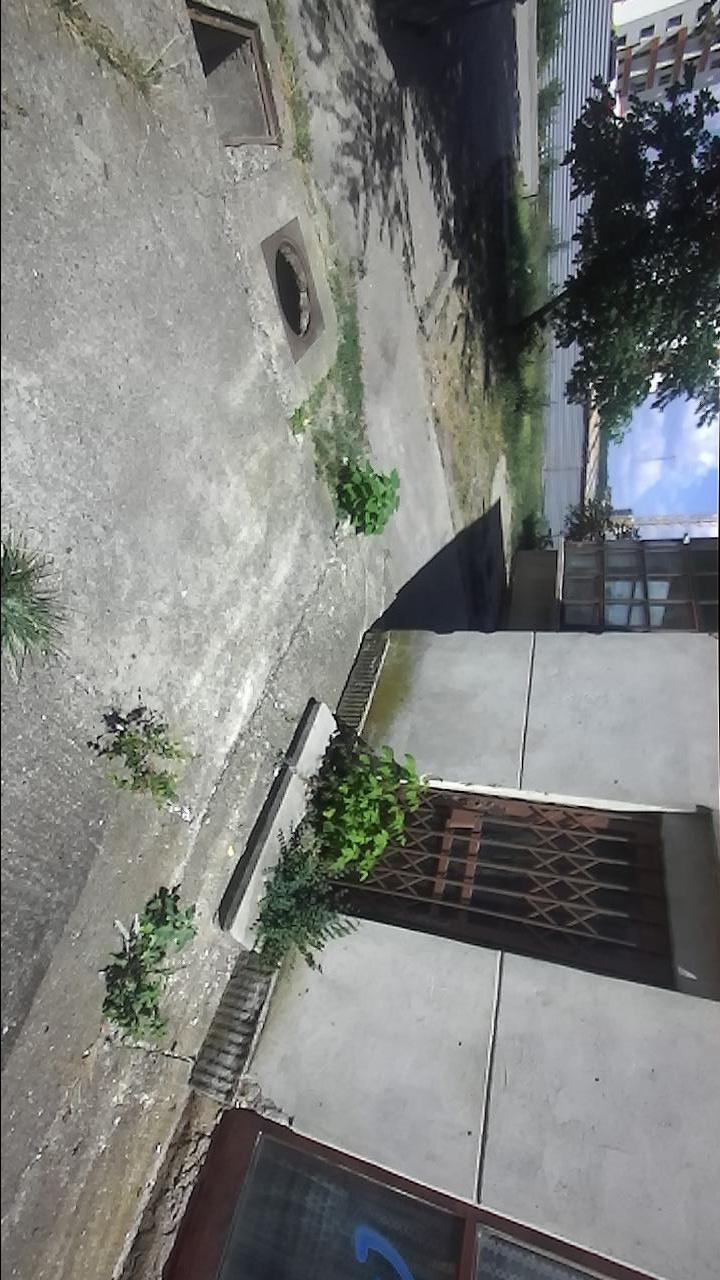drain: (180, 0, 283, 148), (269, 232, 316, 358)
